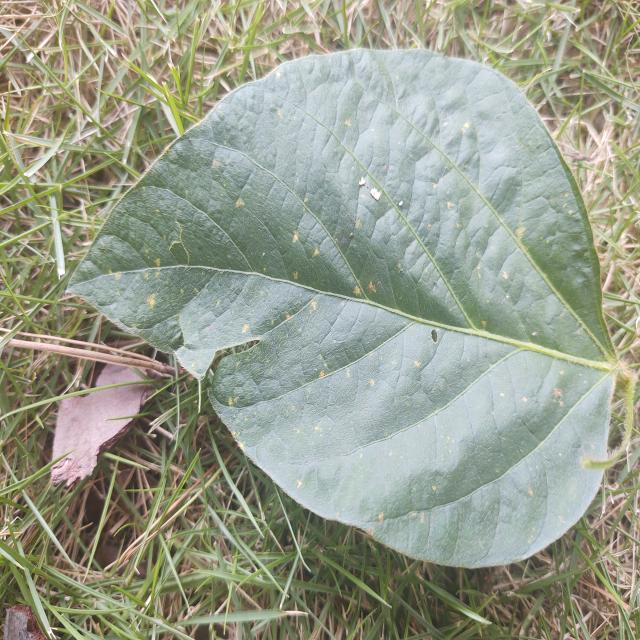Soybean: (62, 47, 618, 572)
downey_mildew: (454, 353, 588, 508), (300, 196, 431, 315), (224, 296, 322, 407), (327, 426, 409, 528), (469, 217, 529, 325), (357, 178, 388, 213), (340, 211, 366, 251), (169, 227, 190, 266), (11, 604, 35, 623), (146, 293, 156, 311), (440, 166, 449, 182), (553, 388, 563, 399), (461, 123, 470, 135), (515, 227, 525, 237), (241, 324, 250, 334), (235, 198, 244, 208), (292, 231, 299, 243), (310, 299, 317, 310), (312, 248, 319, 257), (355, 220, 362, 229), (358, 177, 365, 186), (447, 201, 454, 209), (213, 160, 220, 168), (228, 397, 234, 406), (369, 378, 375, 387), (115, 272, 121, 280), (155, 258, 161, 266), (296, 480, 302, 488), (293, 271, 298, 280), (345, 119, 351, 126), (567, 210, 573, 216), (463, 122, 469, 128), (398, 200, 403, 207), (433, 183, 438, 189), (522, 397, 528, 402), (443, 121, 448, 127), (349, 232, 353, 239), (500, 392, 505, 397), (262, 252, 265, 257)
